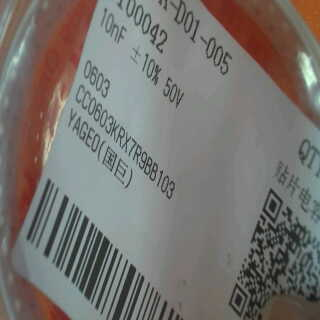10nF: (93, 5, 129, 47)
